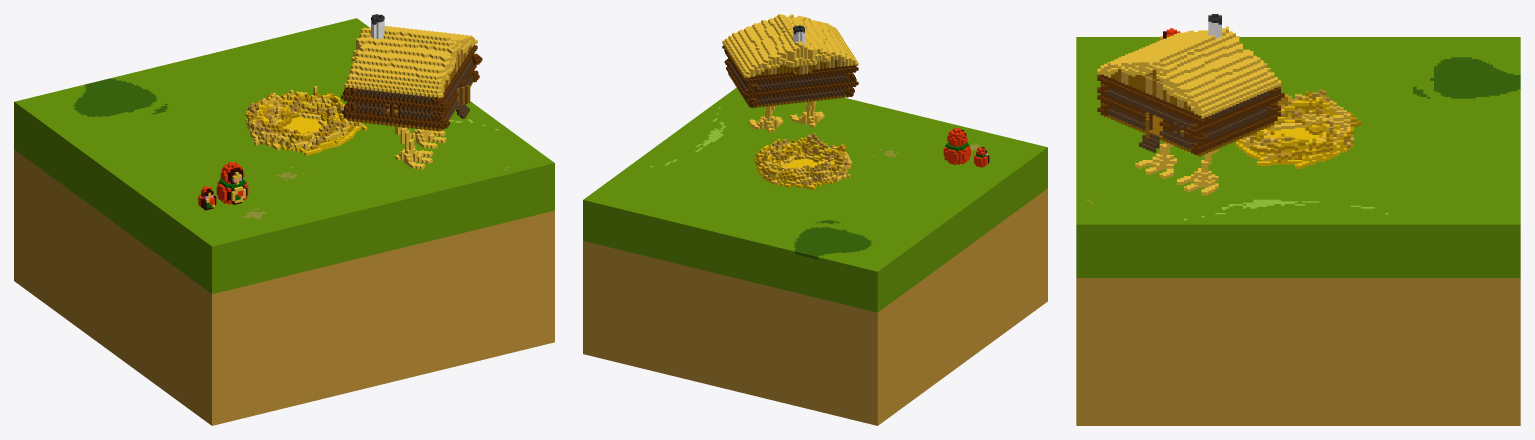
The picture shows the model from 3 angles, left to right: view 1: azimuth 30°, elevation 25°; view 2: azimuth 150°, elevation 25°; view 3: azimuth 270°, elevation 25°; orthographic projection. The views are drawn at different scales.
Visible parts, largest first — view 1: 5E; view 2: 5E; view 3: 5E.
Part boxes in pixels (left/top/right/bottom): 5E: left=14, top=14, right=554, bottom=425; 5E: left=583, top=14, right=1047, bottom=425; 5E: left=1076, top=14, right=1520, bottom=425.
Size of the model in its own units: 12.8 by 11 by 12.8.
Materials: 1 (1 with a texture image).
